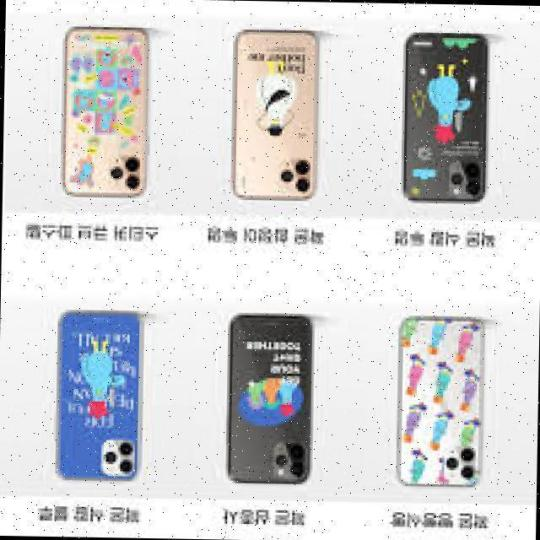phone: (58, 26, 150, 198), (56, 308, 144, 483), (224, 314, 312, 488), (397, 315, 484, 490), (233, 31, 321, 203), (404, 31, 488, 204)
